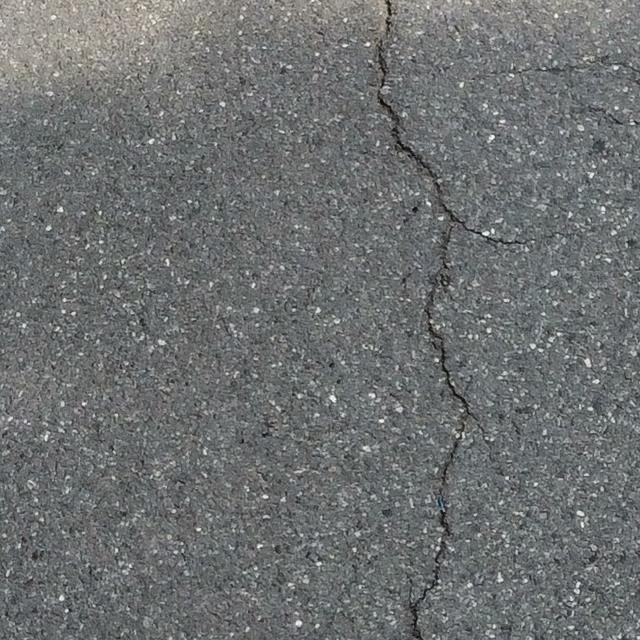LongitudinalCrack: (378, 1, 517, 640)
